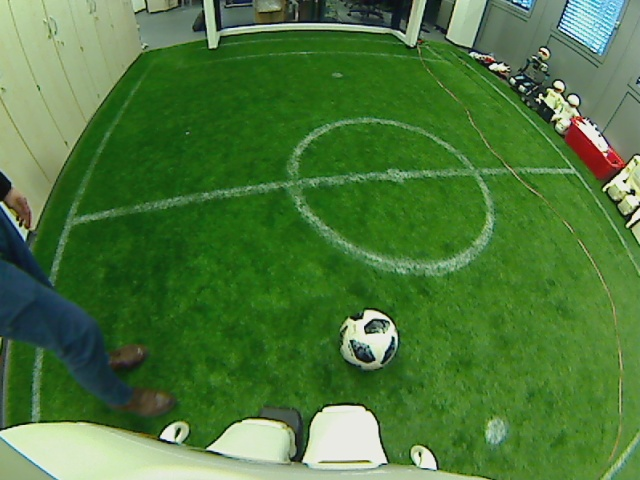ball: (337, 308, 399, 371)
